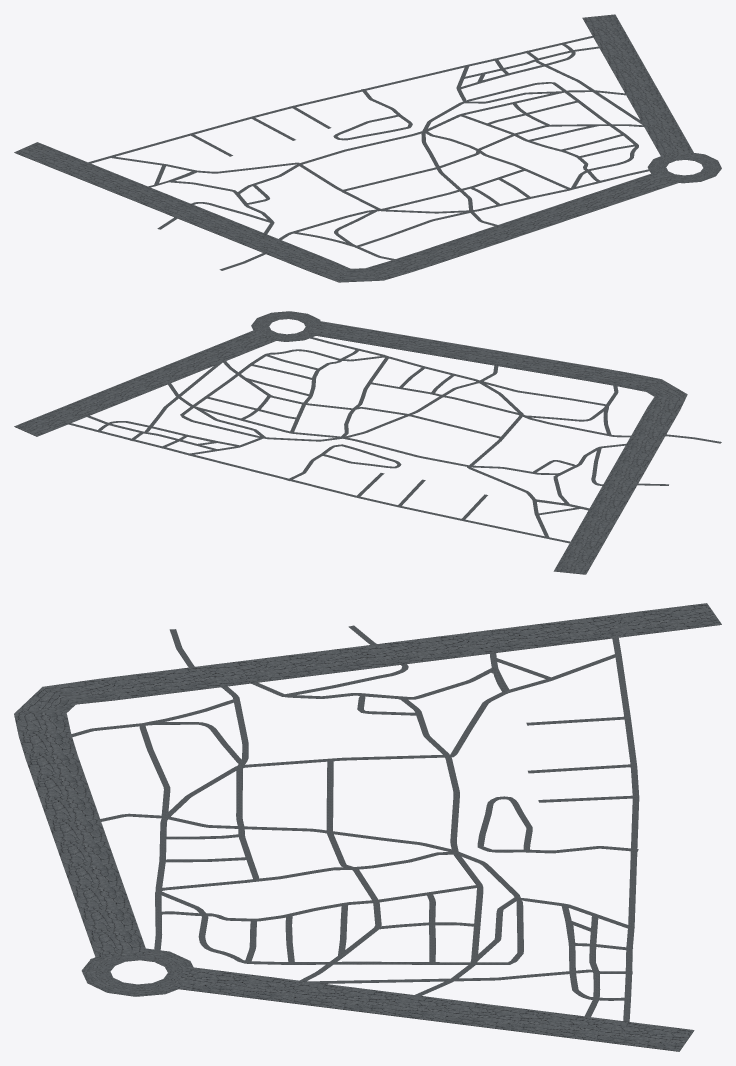
The model's file is road.dae.
3 renders of one model, top to bottom at view 1: azimuth 30°, elevation 25°; view 2: azimuth 150°, elevation 25°; view 3: azimuth 270°, elevation 25°, orthographic. The views are drawn at different scales.
Visible parts, largest first — view 1: H2.001, H1.001, road3.001, road2.001, road4.001, B1.001, road1.001, road5.001, road12.001, road8.001, road6.001, road13.001 (+2 smaller); view 2: H2.001, H1.001, road3.001, road2.001, road4.001, road1.001, B1.001, road5.001, road12.001, road8.001, road6.001, road15.001 (+1 smaller); view 3: H2.001, H1.001, road3.001, B1.001, road2.001, road4.001, road1.001, road5.001, road12.001, road8.001, road13.001, road6.001 (+6 smaller).
Part boxes in pixels (bbox=[...]): H2.001: bbox=[14, 142, 678, 282]; H1.001: bbox=[582, 14, 694, 157]; road3.001: bbox=[109, 65, 638, 213]; road2.001: bbox=[88, 36, 593, 163]; road4.001: bbox=[236, 90, 625, 234]; B1.001: bbox=[647, 153, 721, 183]; road1.001: bbox=[219, 168, 655, 270]; road5.001: bbox=[421, 91, 563, 225]; road12.001: bbox=[343, 124, 643, 190]; road8.001: bbox=[333, 89, 412, 140]; road6.001: bbox=[148, 170, 269, 204]; road13.001: bbox=[459, 114, 599, 181]; H2.001: bbox=[308, 321, 687, 574]; H1.001: bbox=[14, 329, 278, 436]; road3.001: bbox=[180, 349, 549, 537]; road2.001: bbox=[68, 423, 570, 543]; road4.001: bbox=[168, 383, 626, 474]; road1.001: bbox=[304, 335, 721, 443]; B1.001: bbox=[251, 311, 320, 341]; road5.001: bbox=[195, 365, 498, 441]; road12.001: bbox=[223, 361, 500, 438]; road8.001: bbox=[286, 444, 401, 480]; road6.001: bbox=[531, 460, 589, 510]; road15.001: bbox=[479, 380, 611, 435]; H2.001: bbox=[14, 603, 721, 957]; H1.001: bbox=[174, 967, 694, 1051]; road3.001: bbox=[155, 653, 634, 964]; B1.001: bbox=[81, 948, 193, 996]; road2.001: bbox=[612, 637, 639, 1021]; road4.001: bbox=[251, 682, 483, 995]; road1.001: bbox=[154, 629, 259, 953]; road5.001: bbox=[100, 813, 520, 962]; road12.001: bbox=[300, 761, 381, 981]; road8.001: bbox=[477, 796, 638, 853]; road13.001: bbox=[161, 884, 480, 921]; road6.001: bbox=[357, 653, 509, 715].
Bounding box in the file's own units: 579 × 386 × 0.6183.
